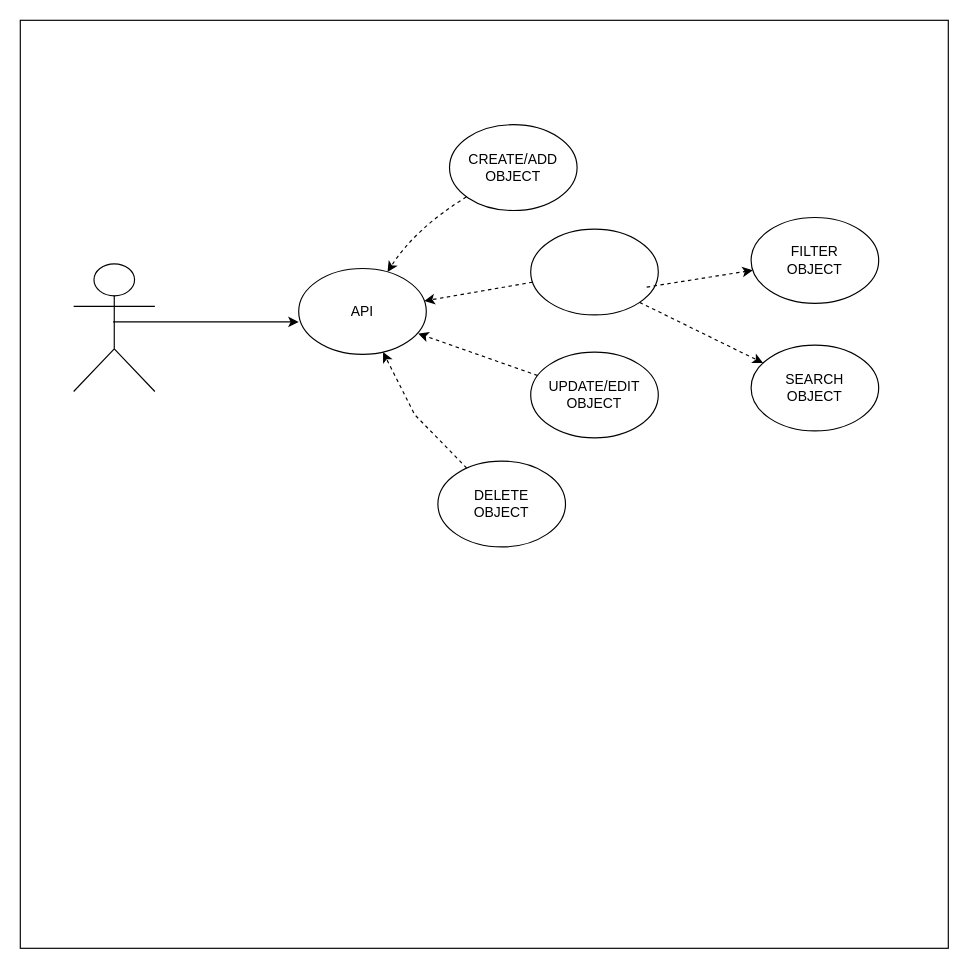
Image size: 969x969. Some labels were removed from this diagram. The shapes that lost their labels are listed below. From the top down, each one's centre as x and y in pixels, then its label:
At point (594, 271): "RETRIVE/FIND OBJECT".
At point (113, 327): "uSER".
